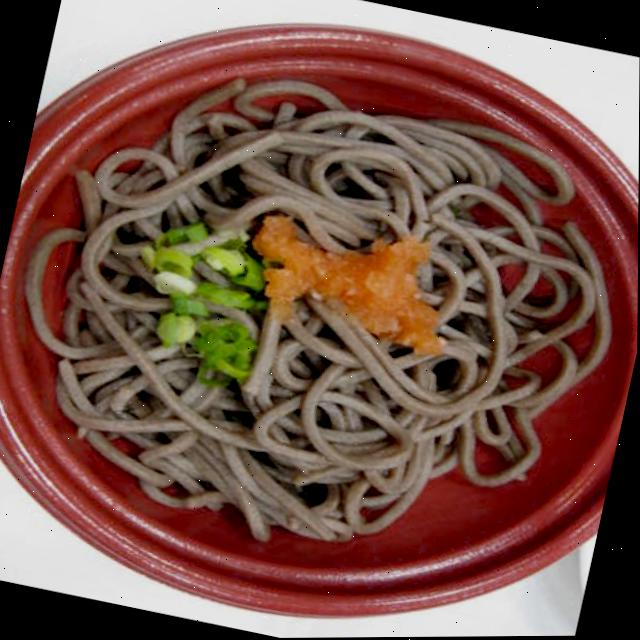面条主食: (10, 44, 626, 595)
